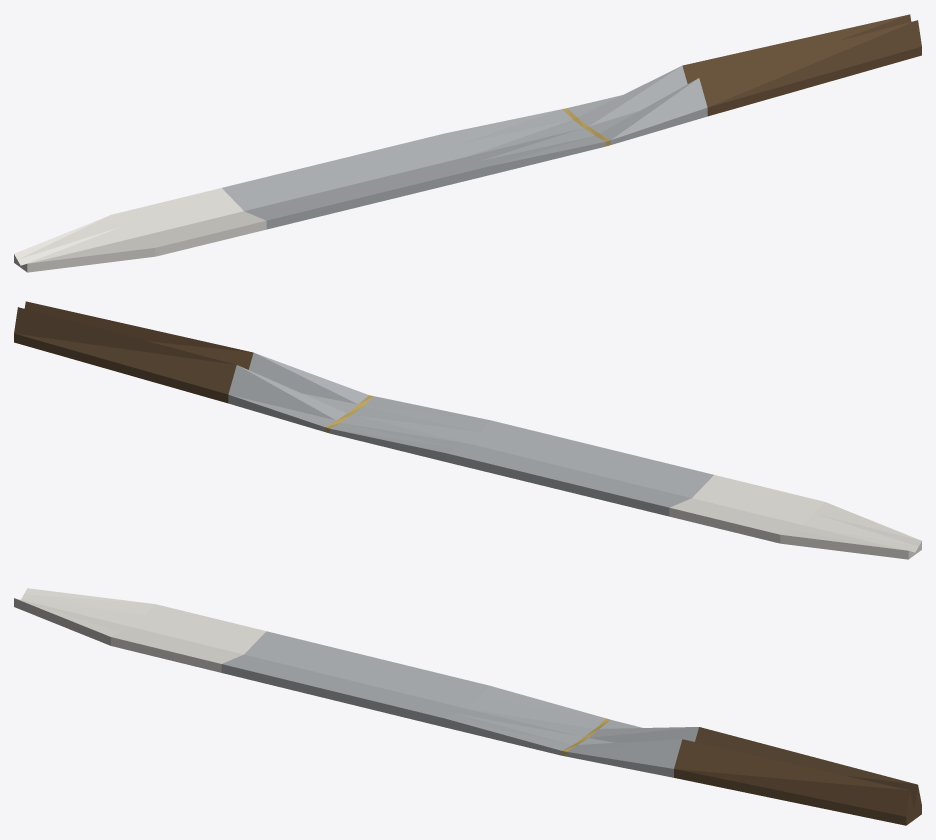
File: table_knife.glb
The picture shows the model from 3 angles, top to bottom: view 1: azimuth 30°, elevation 25°; view 2: azimuth 150°, elevation 25°; view 3: azimuth 330°, elevation 25°; orthographic projection.
Visible parts, largest first — view 1: table_knife; view 2: table_knife; view 3: table_knife.
Part boxes in pixels (x1,y1,x2,y2): table_knife: (14,14,921,272); table_knife: (14,301,921,559); table_knife: (14,588,921,825).
Bounding box in the file's own units: 0.23 × 0.008 × 0.02.
